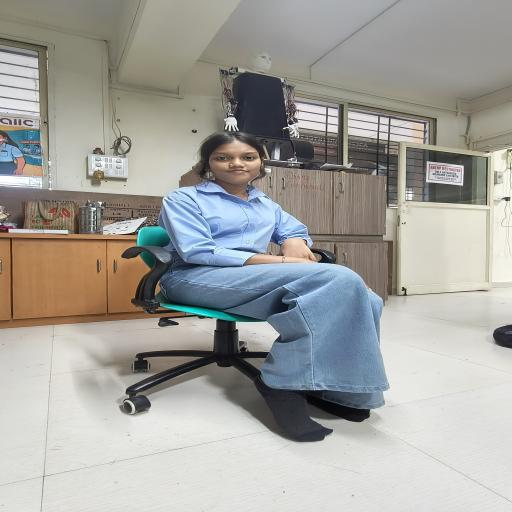survivor: (156, 131, 390, 442)
